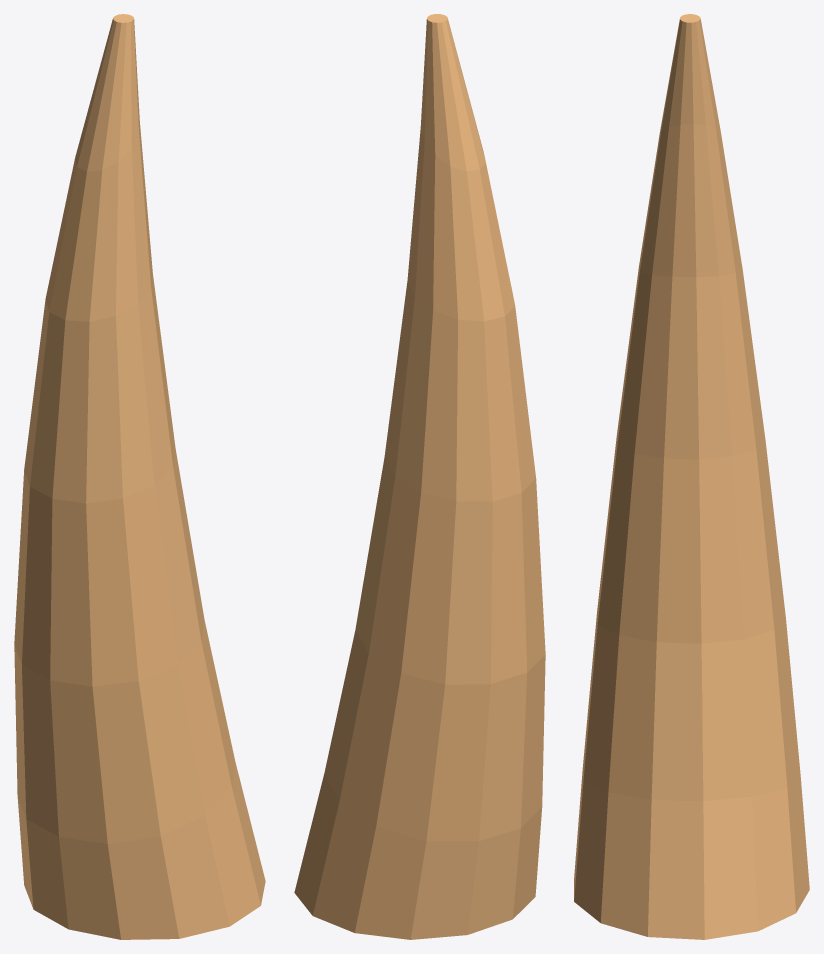
Rendered from Tusk 02.fbx.
3 views of the same model, side by side, from view 1: azimuth 30°, elevation 25°; view 2: azimuth 150°, elevation 25°; view 3: azimuth 270°, elevation 25° (orthographic).
Parts seen in each view (by area): view 1: Tusk 02; view 2: Tusk 02; view 3: Tusk 02.
Boxes of the visible parts, left/top/right/bottom form: Tusk 02: left=14, top=14, right=265, bottom=939; Tusk 02: left=294, top=14, right=545, bottom=939; Tusk 02: left=574, top=14, right=809, bottom=939.
Size of the model in its own units: 74.65 by 281 by 69.76.
